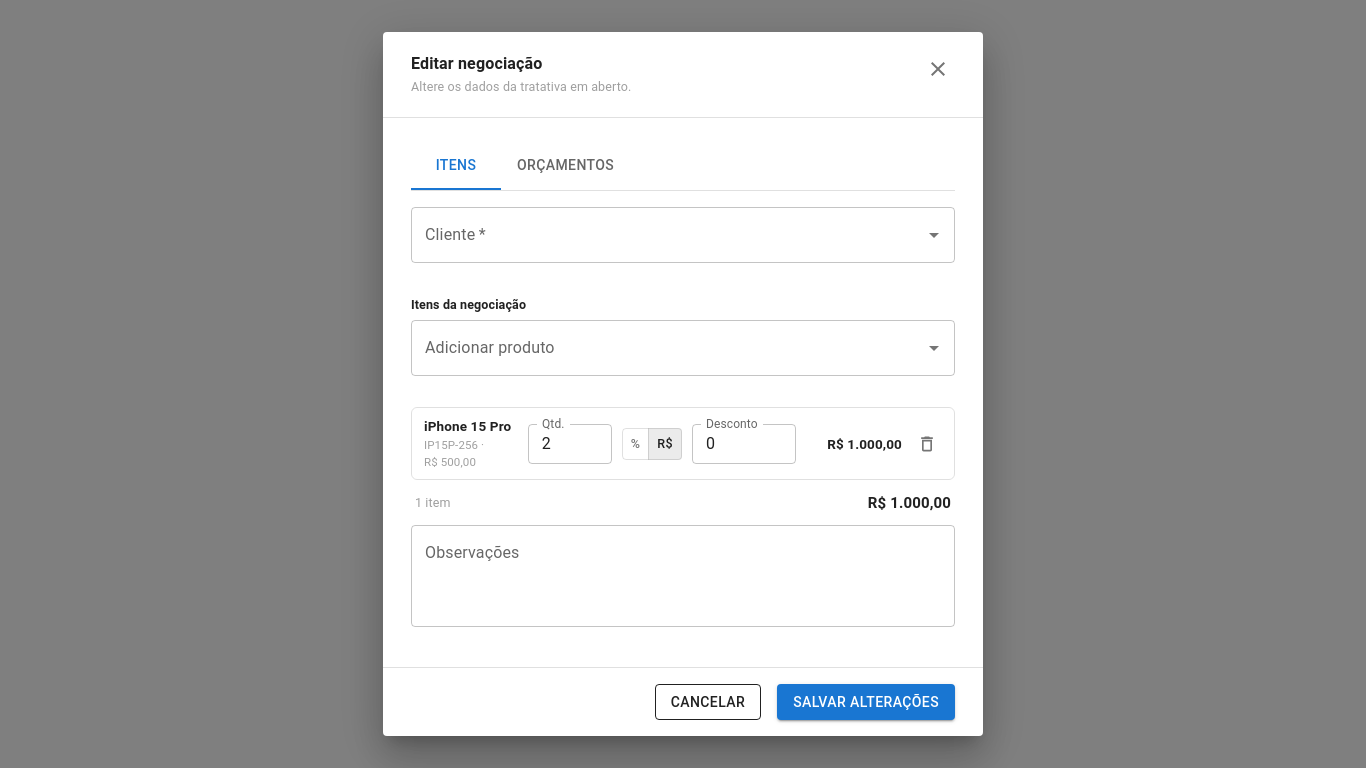
NegotiationFormModal — aba Orçamentos (spec 011, ticket 02) › editar a taxa recalcula a linha na hora, sem gravar nada
The width and height of the screenshot is (1366, 768).
Step 1. Click the tab "Orçamentos" → (566, 166), box top-left (501, 142), bottom-right (630, 190)
(page scrolled)
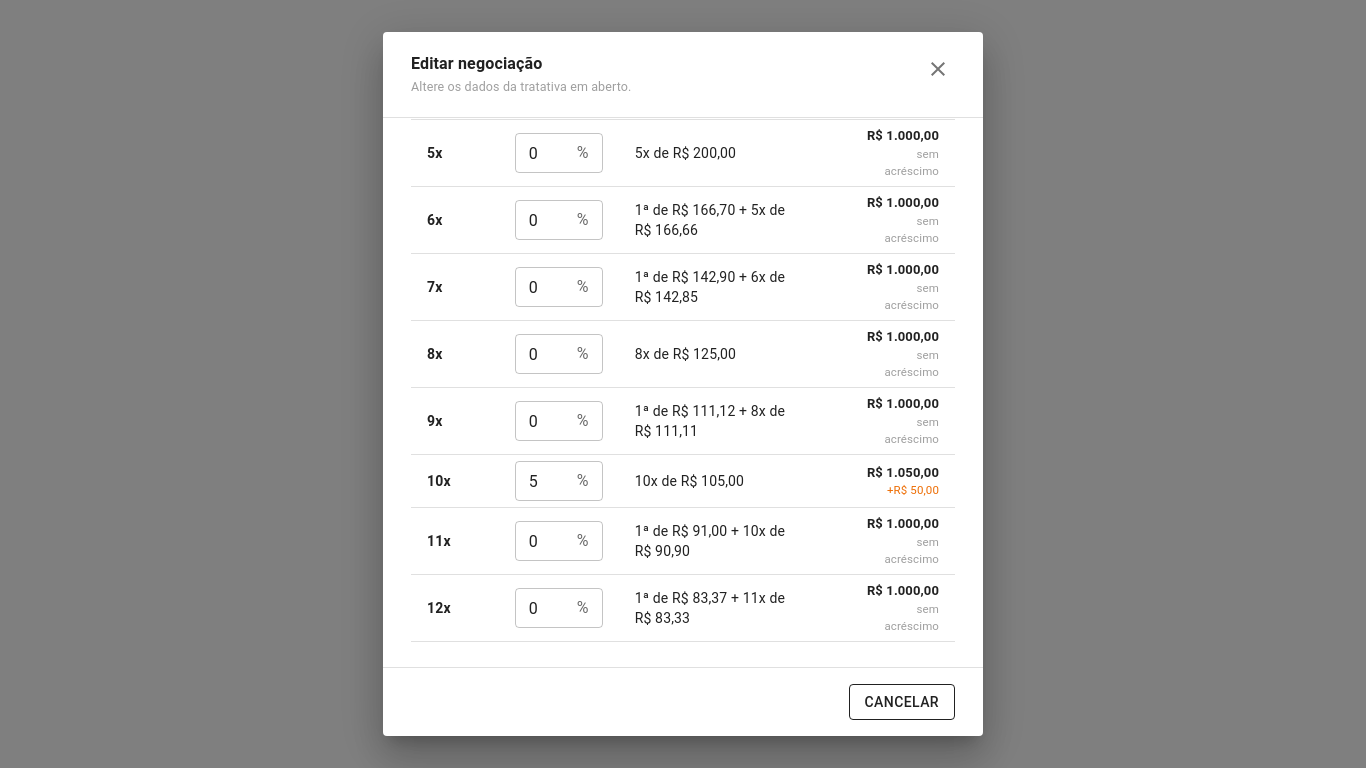
Step 2. Click the number field named "Taxa 10x" → (542, 481), box top-left (515, 461), bottom-right (569, 501)
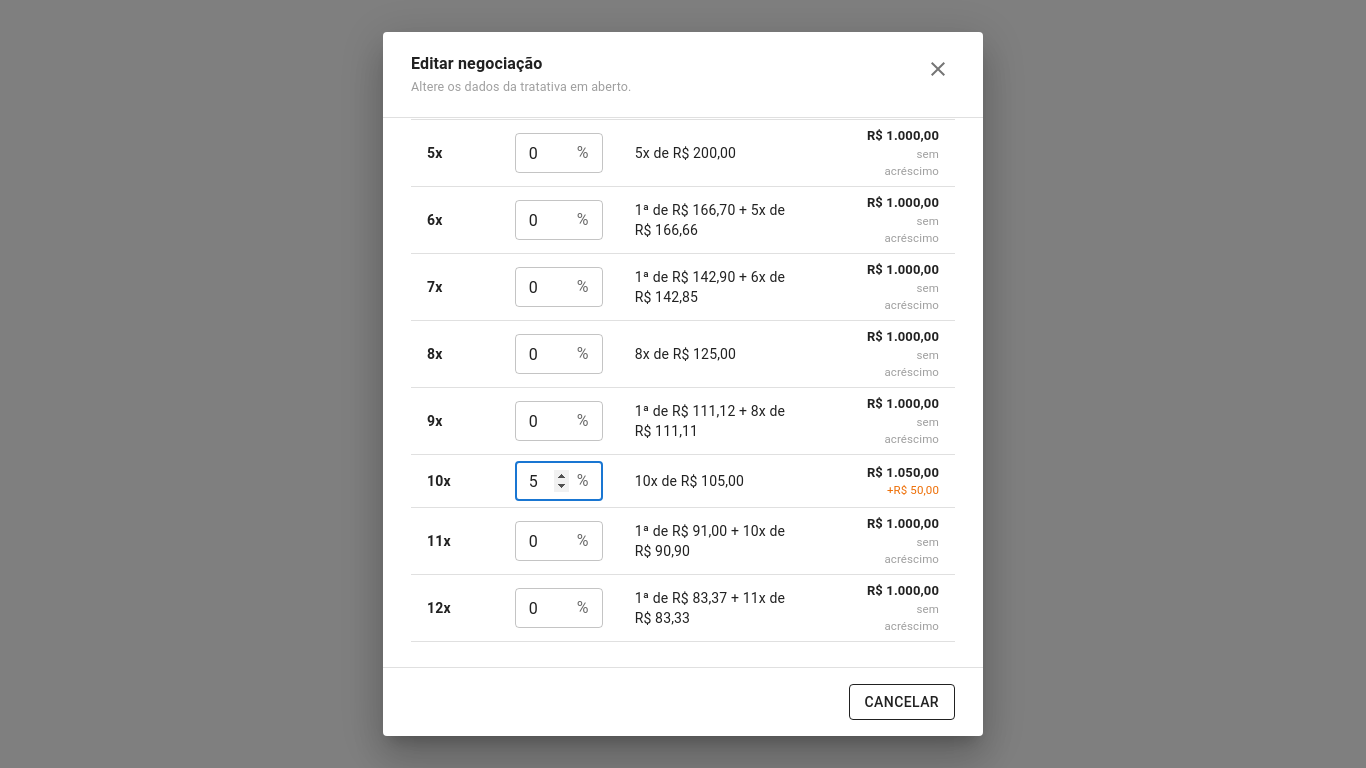
Step 3. Type keys "8"
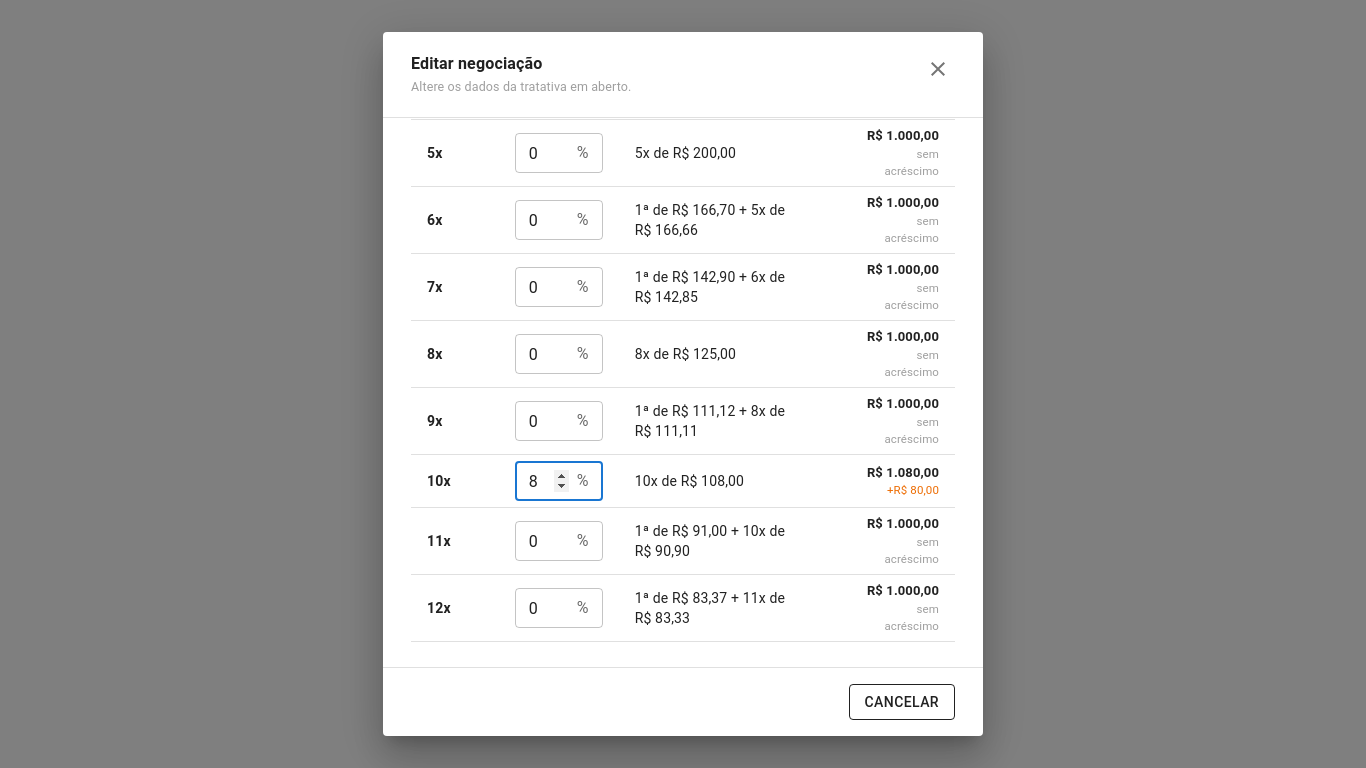
Now the text "10x de R$ 108,00" is shown, box top-left (619, 455), bottom-right (844, 508)
Now the text "R$ 1.080,00" is shown, box top-left (860, 463), bottom-right (939, 482)
Now the text "+R$ 80,00" is shown, box top-left (887, 483), bottom-right (939, 497)
